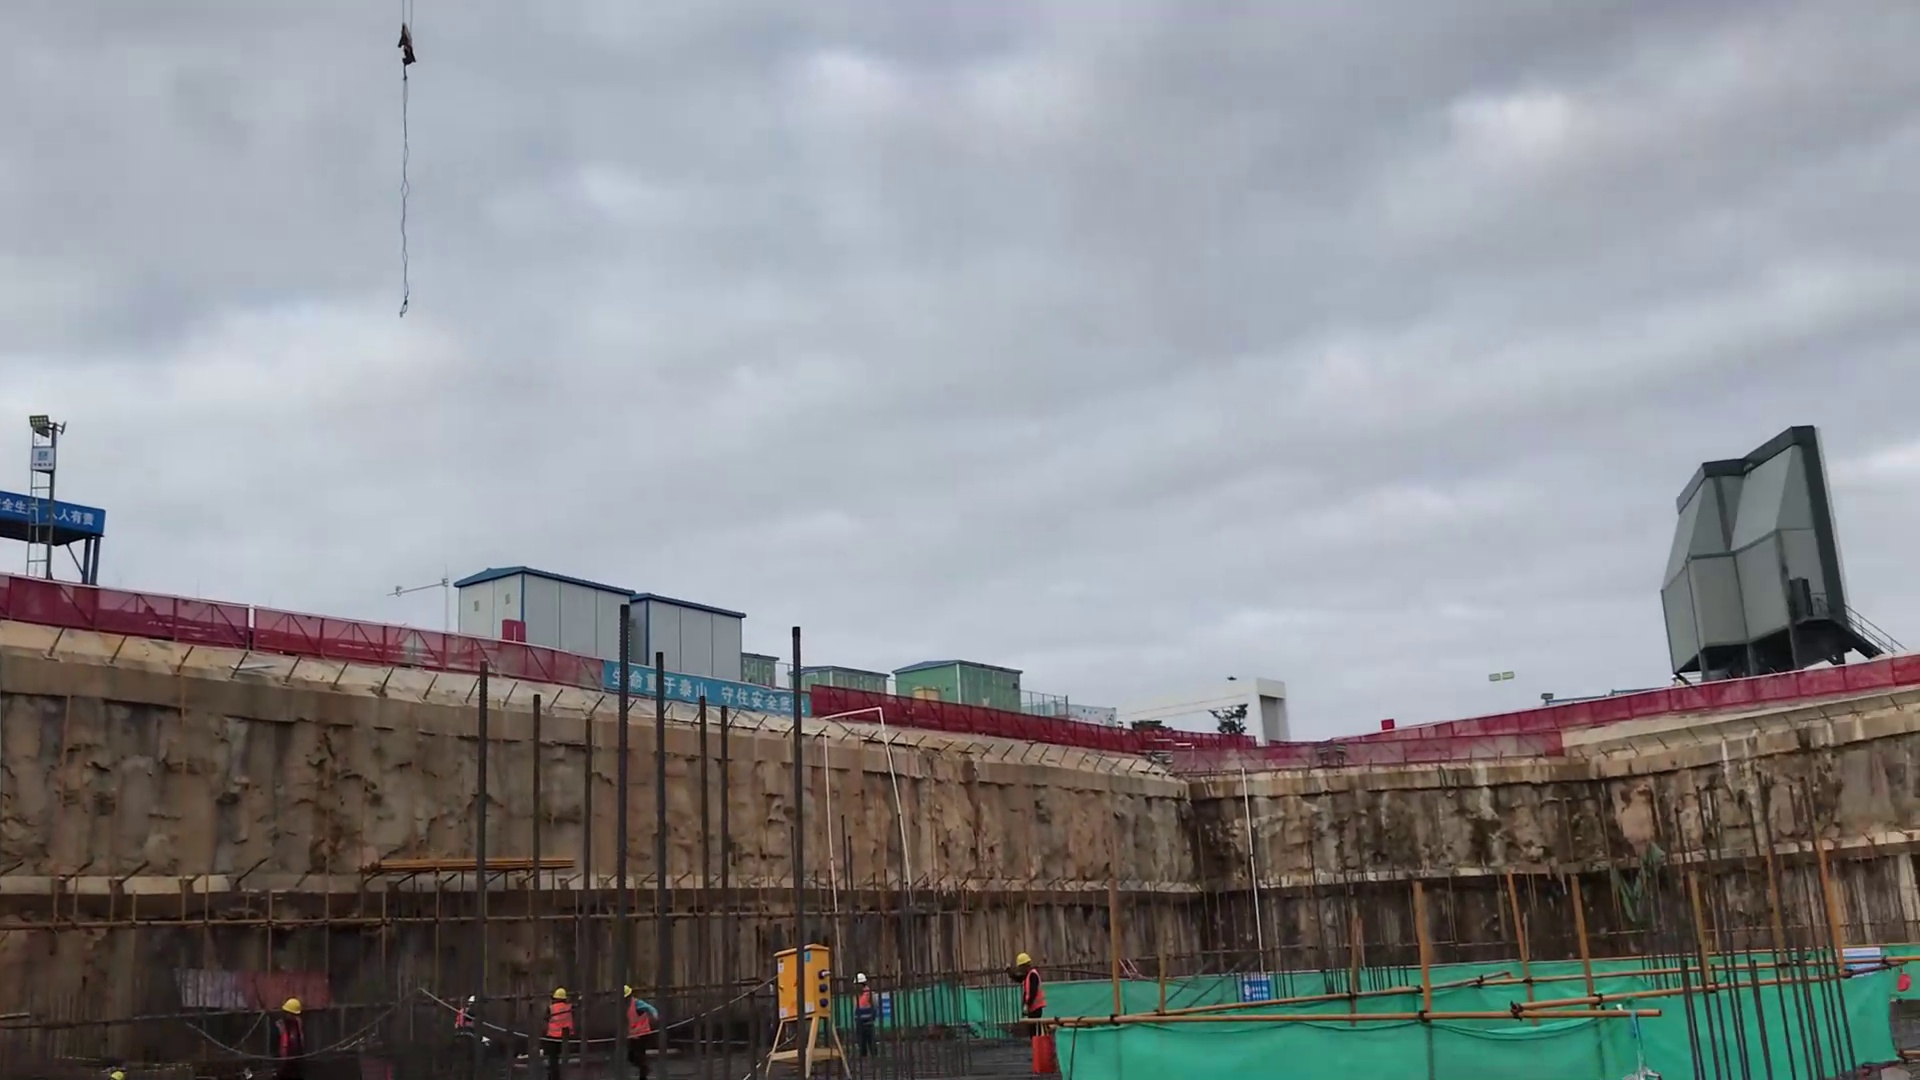helmet: (280, 995, 308, 1014), (1011, 950, 1035, 964), (620, 981, 636, 1000), (851, 972, 868, 986), (109, 1068, 126, 1080), (552, 986, 566, 999), (470, 994, 483, 1003)
person: (612, 982, 662, 1080), (265, 985, 319, 1073), (539, 984, 578, 1066), (1006, 953, 1046, 1022), (846, 973, 877, 1057), (454, 995, 480, 1043)
vest: (1018, 974, 1049, 1020), (277, 1011, 306, 1058), (545, 1002, 574, 1043), (622, 1003, 651, 1038), (857, 990, 875, 1026), (451, 1004, 471, 1033)
